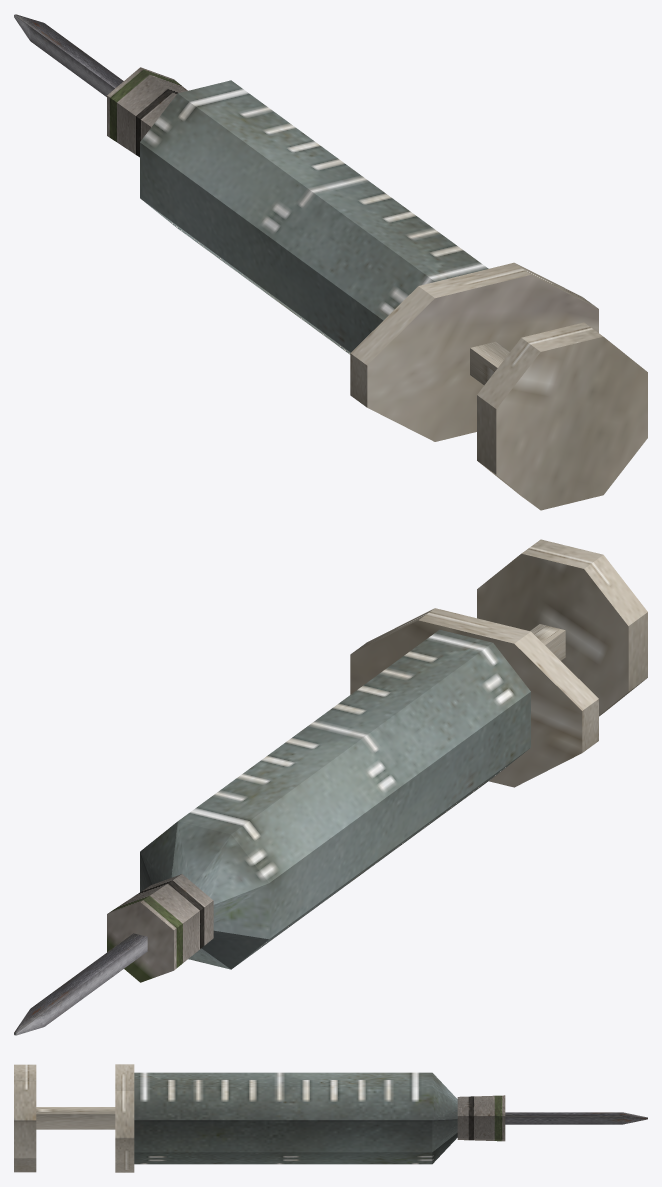
Rendered from Syringe.fbx.
3 views of the same model, one above another, from view 1: azimuth 30°, elevation 25°; view 2: azimuth 150°, elevation 25°; view 3: azimuth 270°, elevation 25° (orthographic). The views are drawn at different scales.
Parts seen in each view (by area): view 1: Syringe, Syringe_Plunger; view 2: Syringe, Syringe_Plunger; view 3: Syringe, Syringe_Plunger.
Boxes of the visible parts, <box> form: Syringe: <box>14,14,598,441</box>; Syringe_Plunger: <box>470,322,647,510</box>; Syringe: <box>14,608,598,1035</box>; Syringe_Plunger: <box>477,539,647,716</box>; Syringe: <box>115,1064,647,1172</box>; Syringe_Plunger: <box>14,1064,115,1172</box>.
Bounding box in the file's own units: 4.8 × 3.14 × 20.
3 materials, 3 textured.
